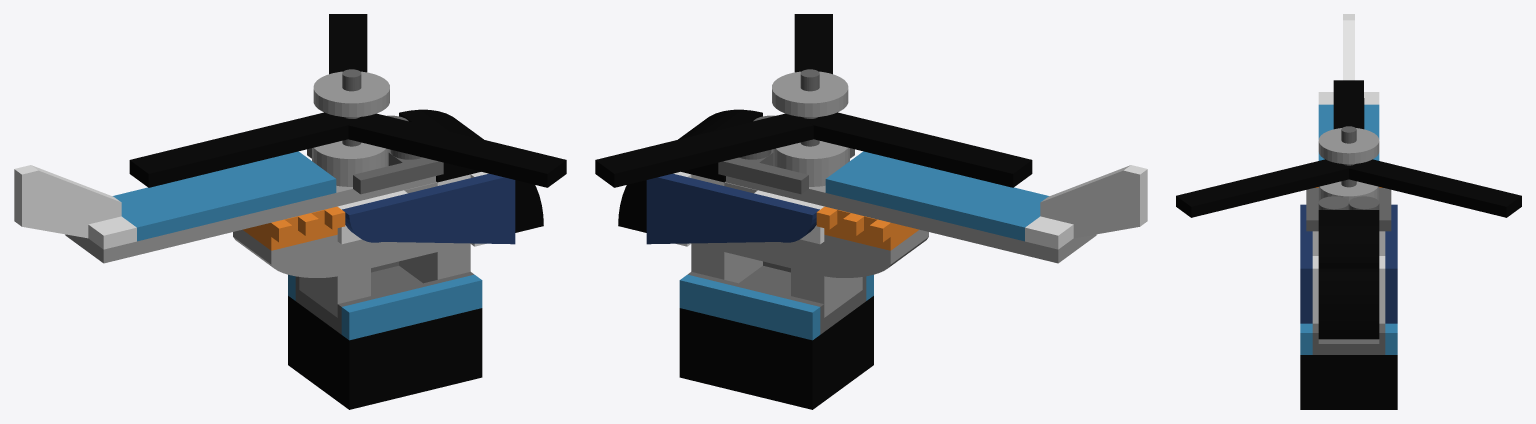
Rendered from lego-helicopter.glb.
3 renders of one model, left to right at view 1: azimuth 30°, elevation 25°; view 2: azimuth 150°, elevation 25°; view 3: azimuth 270°, elevation 25°, orthographic. The views are drawn at different scales.
Visible parts, largest first — view 1: Cube.028, Cube.025, Cube.017, Cube.020, Cube.068, Cube.007, Cube.019, Cube.021, Cube.002, Cylinder.004, Cube.005, Cube.001 (+11 smaller); view 2: Cube.028, Cube.025, Cube.018, Cube.021, Cube.068, Cube.006, Cube.019, Cube.020, Cube.002, Cylinder.004, Cube.005, Cube.001 (+11 smaller); view 3: Cube.028, Cube.025, Cube.024, Cube.023, Cylinder.004, Cube.017, Cube.018, Cube.068, Cube.022, Cube.005, Cube.014, Cylinder.001 (+8 smaller).
Boxes of the visible parts, bbox=[...] form: Cube.028: bbox=[129, 14, 566, 187]; Cube.025: bbox=[288, 296, 482, 409]; Cube.017: bbox=[375, 173, 515, 244]; Cube.020: bbox=[121, 165, 336, 241]; Cube.068: bbox=[14, 165, 136, 249]; Cube.007: bbox=[341, 274, 482, 340]; Cube.019: bbox=[65, 176, 435, 263]; Cube.021: bbox=[112, 151, 316, 212]; Cube.002: bbox=[233, 229, 337, 277]; Cylinder.004: bbox=[313, 71, 389, 117]; Cube.005: bbox=[295, 261, 473, 334]; Cube.001: bbox=[337, 239, 470, 276]; Cube.028: bbox=[595, 14, 1032, 187]; Cube.025: bbox=[679, 296, 873, 409]; Cube.018: bbox=[646, 173, 786, 244]; Cube.021: bbox=[825, 165, 1040, 241]; Cube.068: bbox=[1025, 165, 1147, 249]; Cube.006: bbox=[679, 274, 820, 340]; Cube.019: bbox=[726, 176, 1096, 263]; Cube.020: bbox=[845, 151, 1049, 212]; Cube.002: bbox=[824, 229, 928, 277]; Cylinder.004: bbox=[772, 71, 848, 117]; Cube.005: bbox=[688, 261, 866, 334]; Cube.001: bbox=[691, 239, 824, 276]; Cube.028: bbox=[1176, 80, 1521, 217]; Cube.025: bbox=[1300, 355, 1397, 409]; Cube.024: bbox=[1318, 268, 1379, 339]; Cube.023: bbox=[1318, 210, 1379, 268]; Cylinder.004: bbox=[1318, 128, 1379, 164]; Cube.017: bbox=[1300, 217, 1312, 323]; Cube.018: bbox=[1385, 217, 1397, 323]; Cube.068: bbox=[1318, 14, 1379, 104]; Cube.022: bbox=[1306, 188, 1391, 231]; Cube.005: bbox=[1312, 323, 1385, 354]; Cube.014: bbox=[1312, 256, 1385, 323]; Cylinder.001: bbox=[1318, 181, 1379, 201].
Size of what is drawn, in the model's own units: 15.24 by 8.8 by 11.39.
